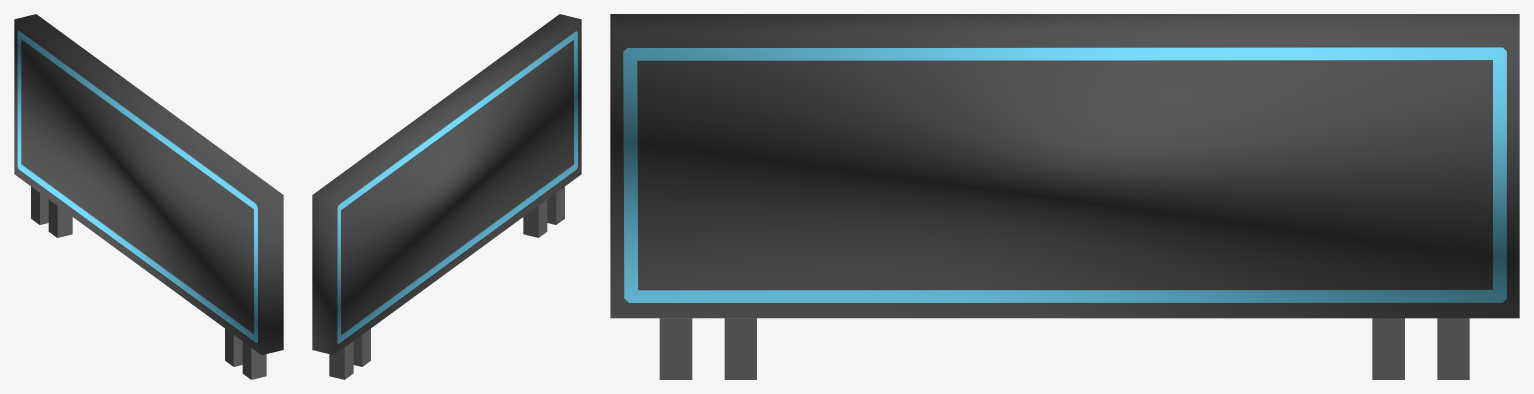
File: Post.fbx
The picture shows the model from 3 angles, left to right: view 1: azimuth 30°, elevation 25°; view 2: azimuth 150°, elevation 25°; view 3: azimuth 270°, elevation 25°; orthographic projection. The views are drawn at different scales.
Parts seen in each view (by area): view 1: Cube.002, Cube.001, Cube.005, Cube.004, Cube.003; view 2: Cube.002, Cube.004, Cube.003, Cube.001, Cube.005; view 3: Cube.002, Cube.001, Cube.003, Cube.004, Cube.005.
Part boxes in pixels (x1,y1,x2,y2): Cube.002: [14, 14, 283, 354]; Cube.001: [242, 341, 266, 379]; Cube.005: [48, 199, 72, 237]; Cube.004: [31, 186, 48, 224]; Cube.003: [225, 328, 242, 366]; Cube.002: [312, 14, 581, 355]; Cube.004: [329, 341, 353, 379]; Cube.003: [523, 200, 547, 237]; Cube.001: [547, 187, 564, 224]; Cube.005: [353, 329, 370, 366]; Cube.002: [610, 14, 1519, 318]; Cube.001: [659, 318, 692, 379]; Cube.003: [724, 318, 756, 379]; Cube.004: [1437, 318, 1469, 379]; Cube.005: [1372, 318, 1404, 379].
Bounding box in the file's own units: 2.87 × 23.81 × 56.13.
